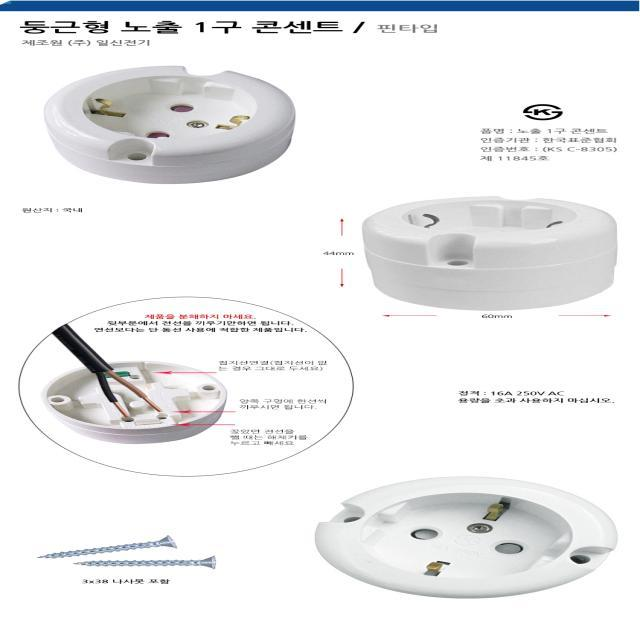typeb: (35, 52, 328, 195)
